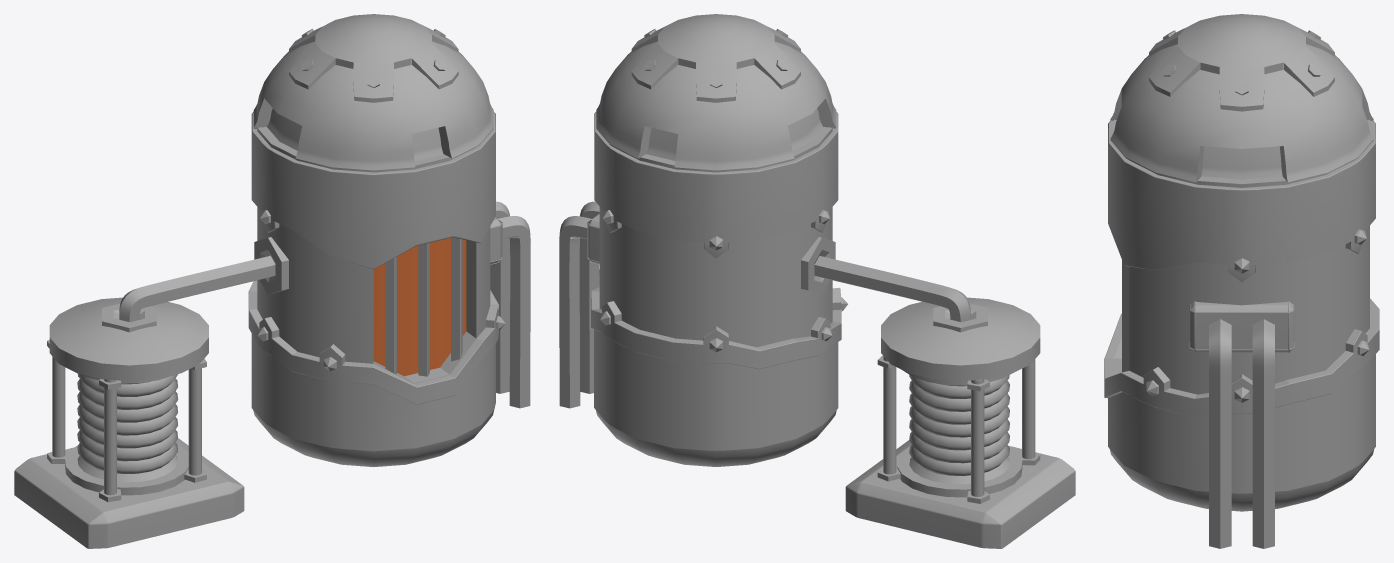
The model's file is SM_HR_Generator.fbx.
The picture shows the model from 3 angles, left to right: view 1: azimuth 30°, elevation 25°; view 2: azimuth 150°, elevation 25°; view 3: azimuth 270°, elevation 25°; orthographic projection. The views are drawn at different scales.
Visible parts, largest first — view 1: group3; view 2: group3; view 3: group3.
Part boxes in pixels (box(x1,y1,x2,y2)): group3: box(14, 14, 530, 548); group3: box(559, 14, 1075, 548); group3: box(1104, 14, 1379, 548).
Bounding box in the file's own units: 344 × 293 × 159.
